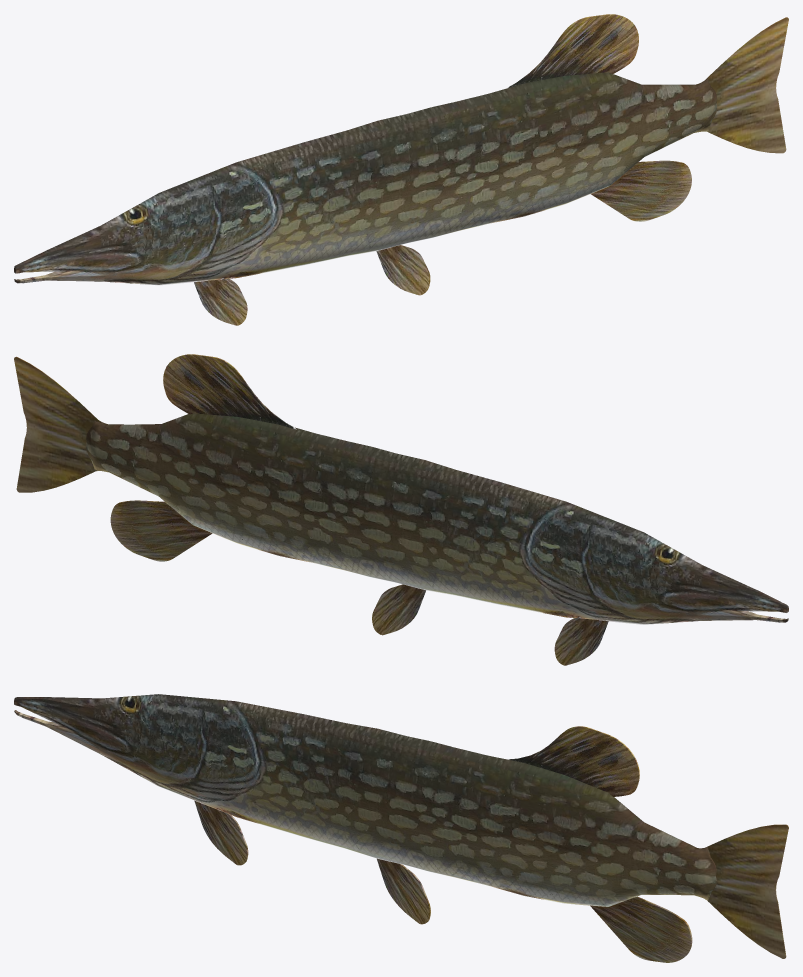
Rendered from norhthan pike.fbx.
3 renders of one model, top to bottom at view 1: azimuth 30°, elevation 25°; view 2: azimuth 150°, elevation 25°; view 3: azimuth 330°, elevation 25°, orthographic.
Parts seen in each view (by area): view 1: Line001, Line002, Line009, Line010, Line012, Line011; view 2: Line001, Line002, Line009, Line010, Line012, Line011; view 3: Line001, Line002, Line009, Line010, Line012, Line011.
Boxes of the visible parts, <box> form: Line001: <box>14,72,716,285</box>; Line002: <box>707,17,788,153</box>; Line009: <box>506,14,638,88</box>; Line010: <box>591,160,691,221</box>; Line012: <box>376,245,430,295</box>; Line011: <box>194,279,247,325</box>; Line001: <box>86,413,788,624</box>; Line002: <box>14,356,100,492</box>; Line009: <box>163,354,296,429</box>; Line010: <box>110,500,212,561</box>; Line012: <box>372,584,425,635</box>; Line011: <box>554,618,608,665</box>; Line001: <box>14,694,716,906</box>; Line002: <box>707,824,788,958</box>; Line009: <box>507,726,639,796</box>; Line010: <box>590,896,692,962</box>; Line012: <box>377,858,430,924</box>; Line011: <box>194,800,248,865</box>.
Size of the model in its own units: 1367 by 400 by 74.06.
Materials: 4 (4 with a texture image).
